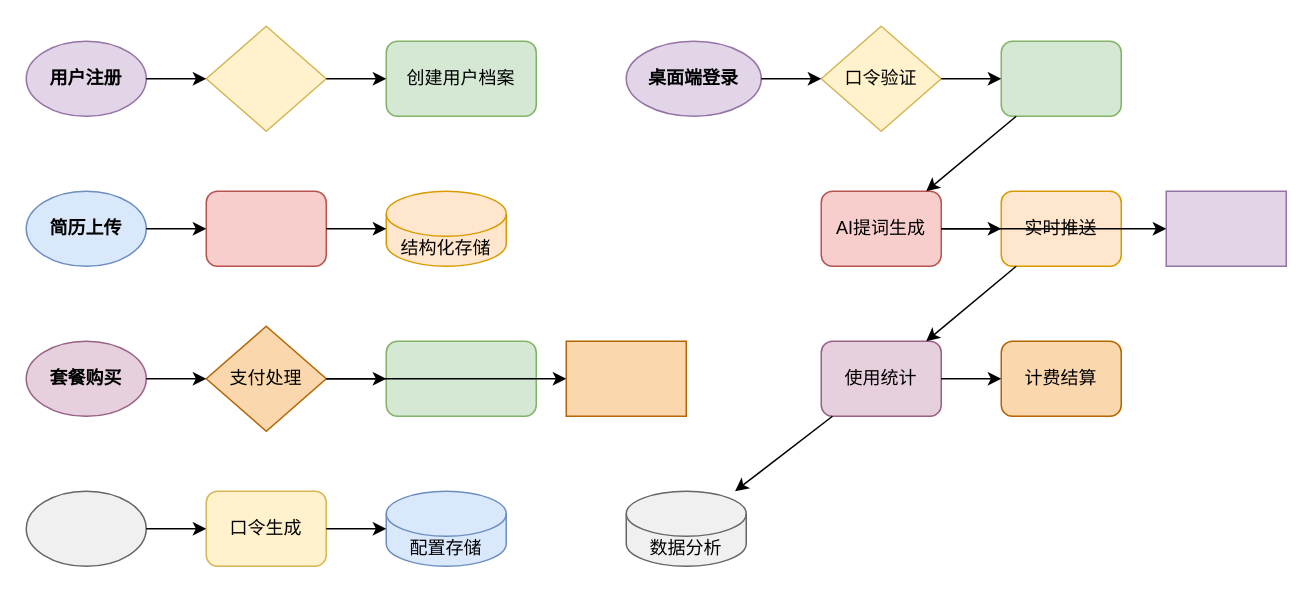
Image size: 1313x593. Some labels were removed from this diagram. The centre of each missing label's shape, as x and y in pixels:
LLM服务: pixel 1225 228
会话启动: pixel 1060 78
支付网关: pixel 625 378
文件解析: pixel 265 228
订阅激活: pixel 460 378
身份验证: pixel 265 78
面试配置: pixel 85 528
